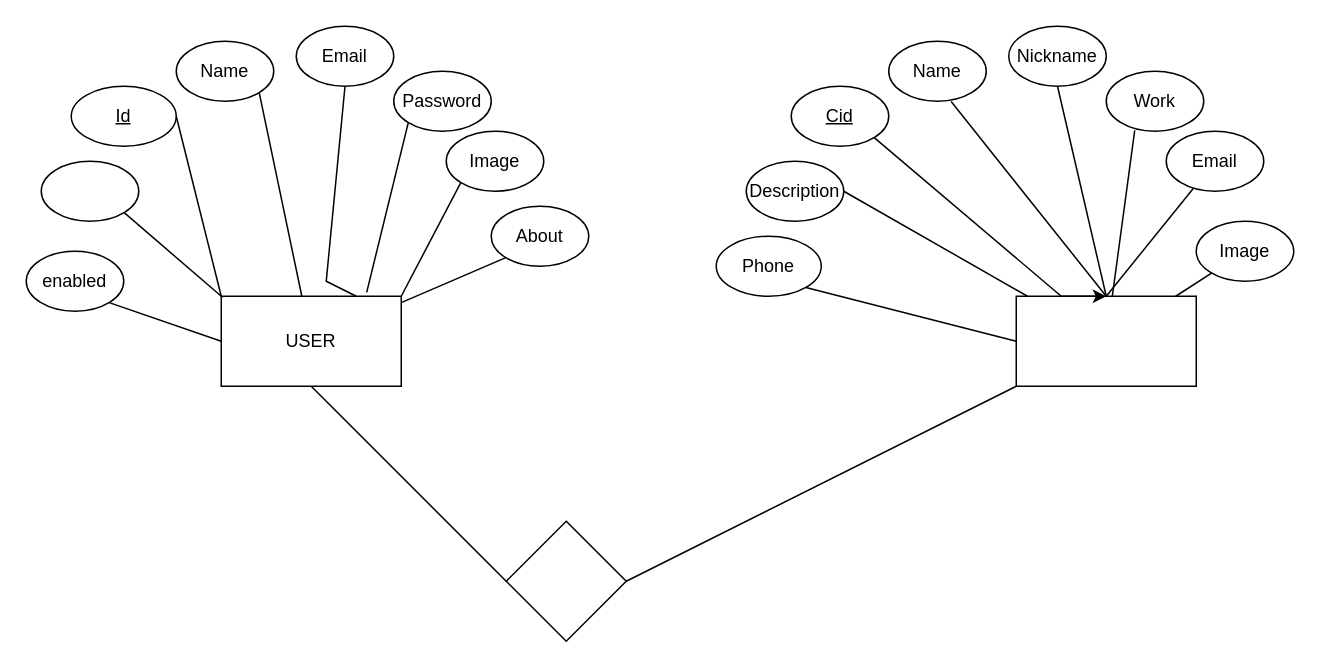
This 1320x668 diagram has some shape labels left out. Here are the shapes that lost their labels. From the top down, the centre of each, then its label:
At point (89, 190): "Role".
At point (1105, 340): "Contact".
At point (565, 580): "Has".
